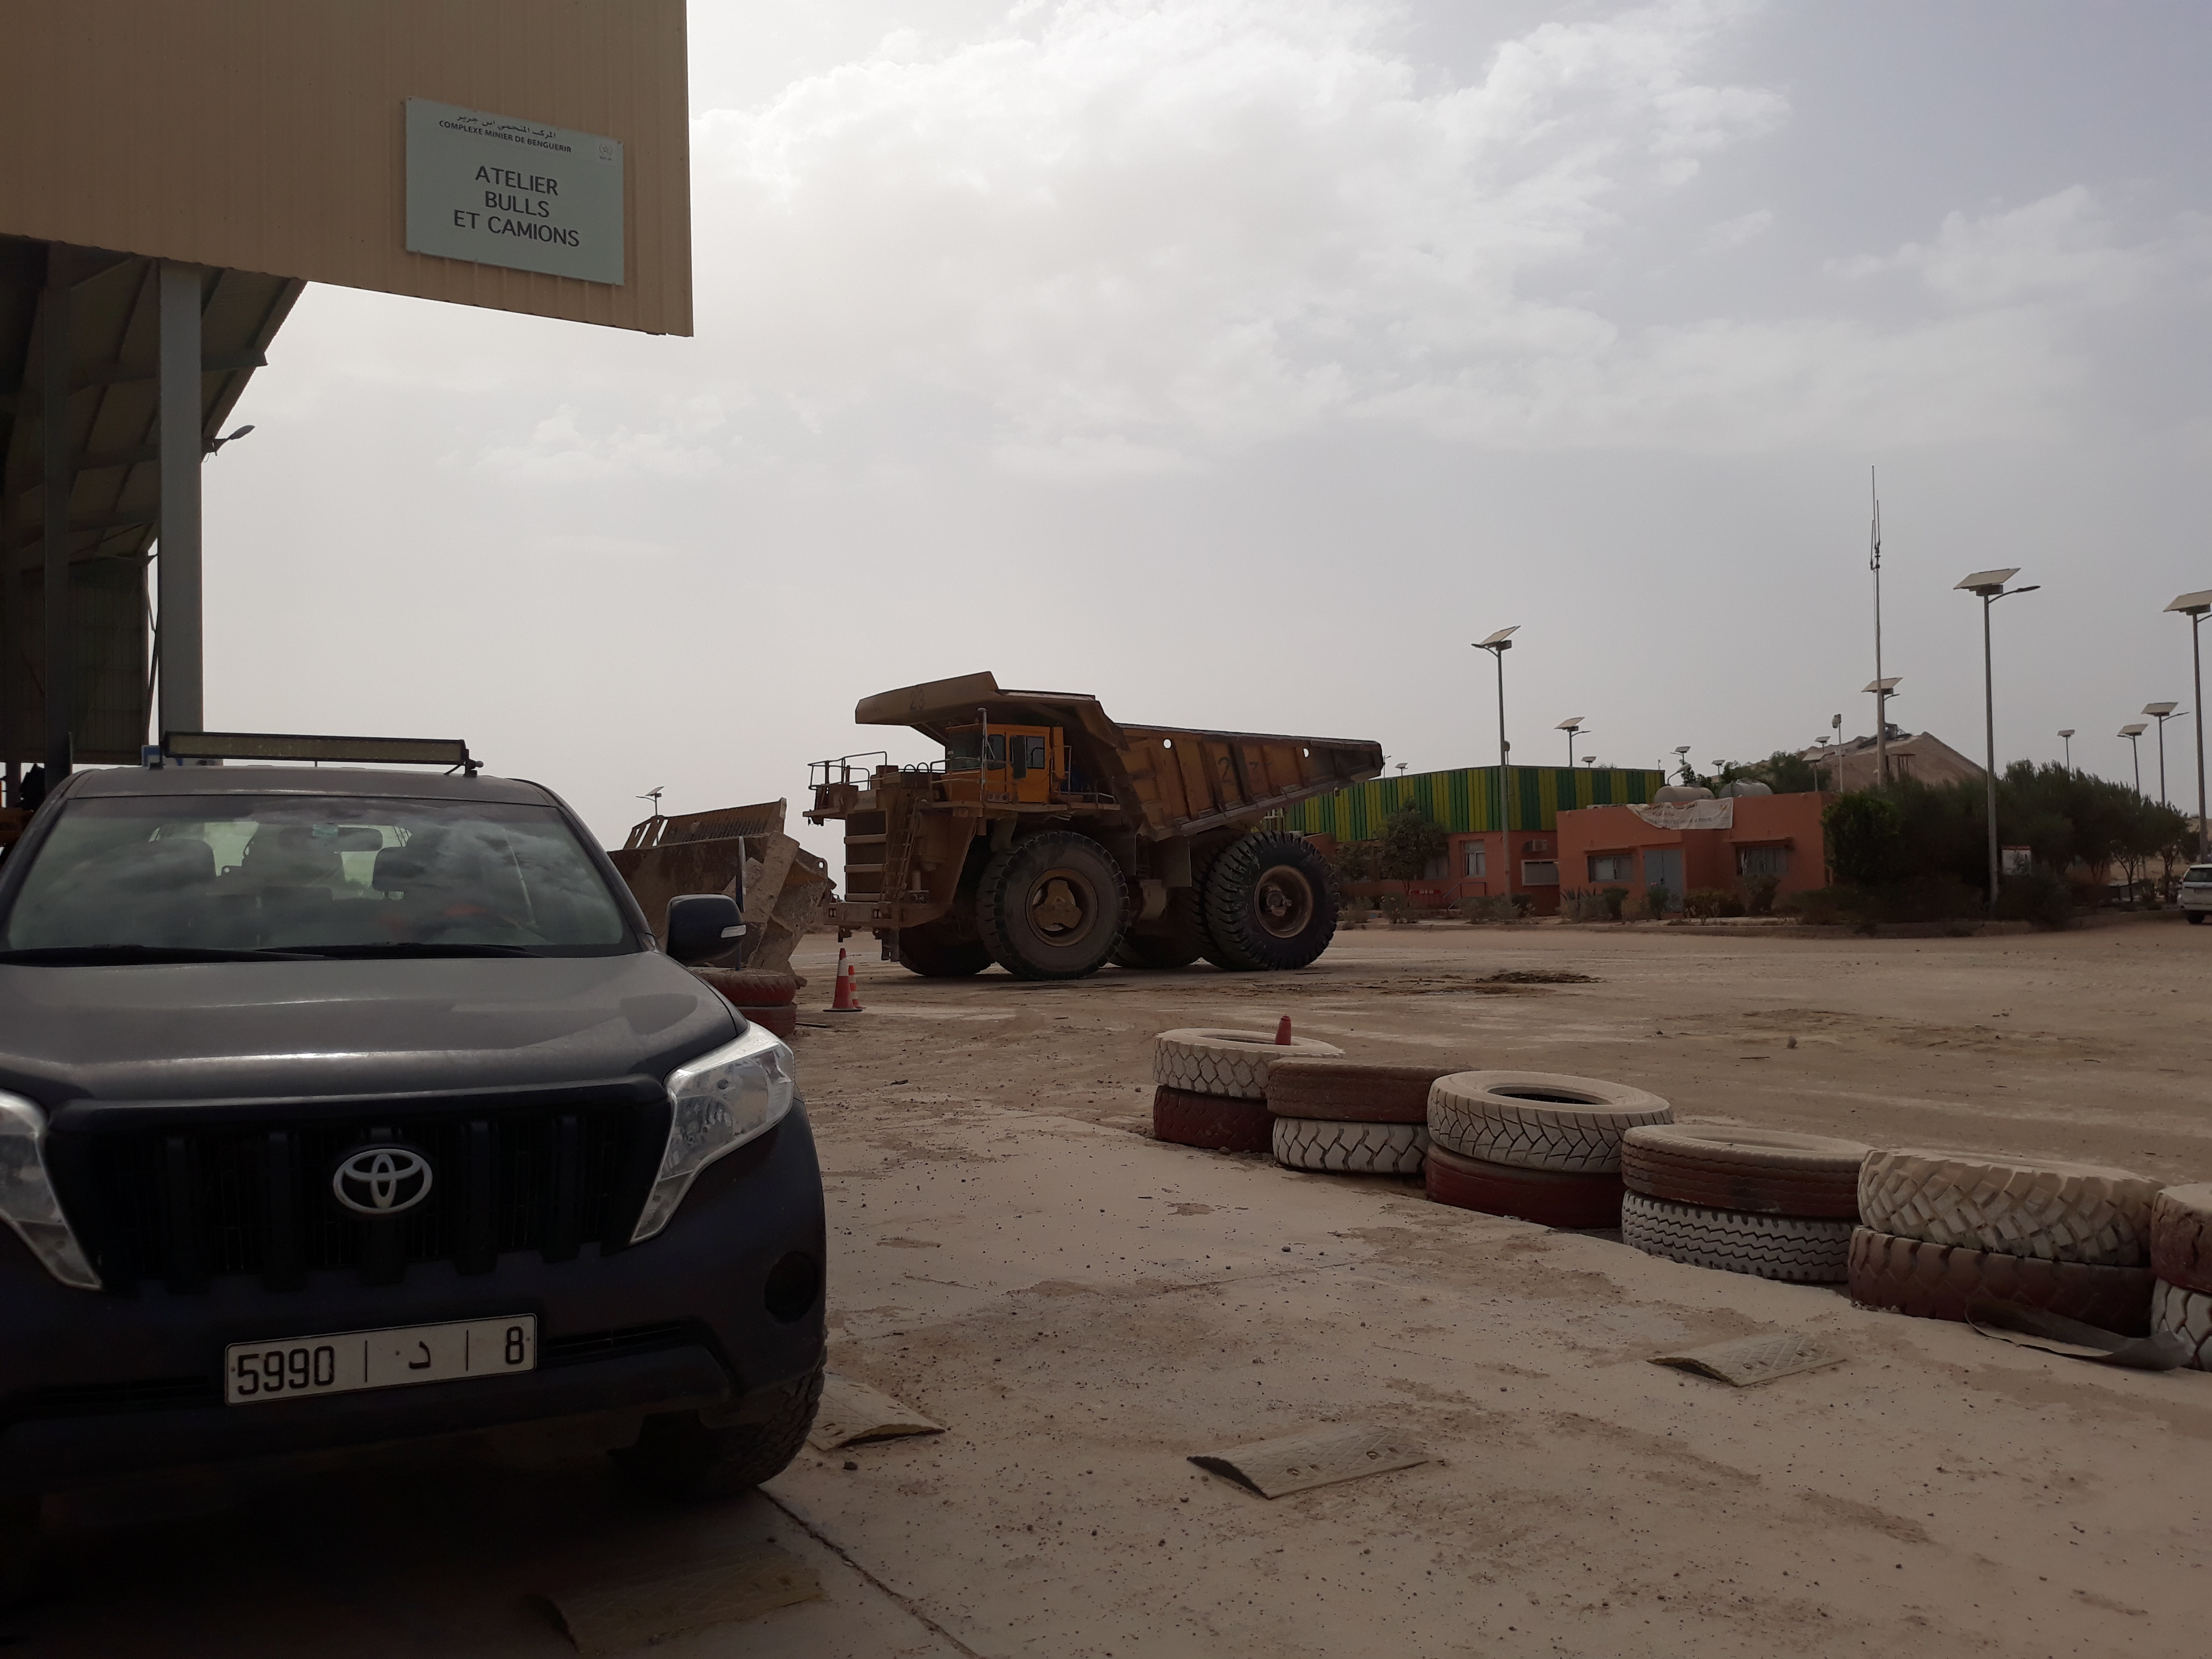camion: (817, 647, 1400, 1007)
car: (0, 727, 827, 1608)
